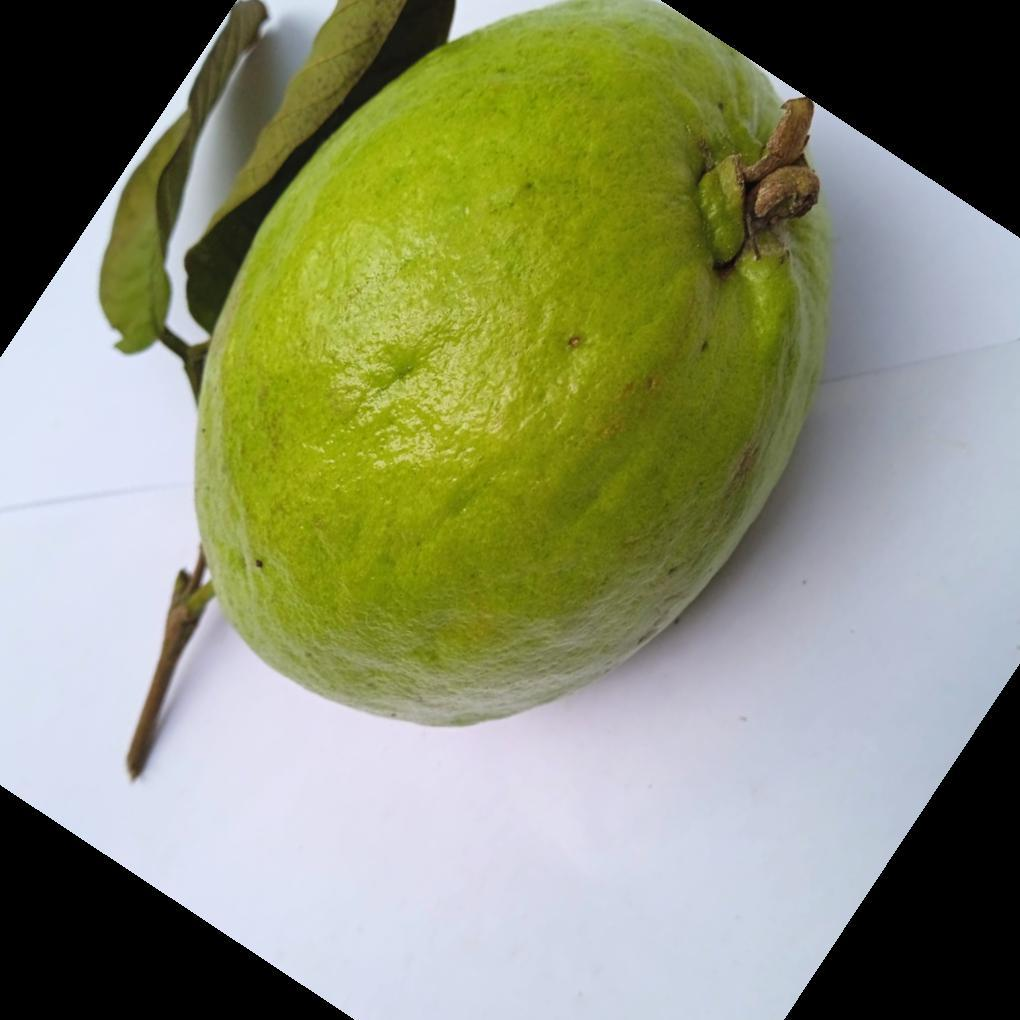FreshGuava: (187, 0, 835, 733)
